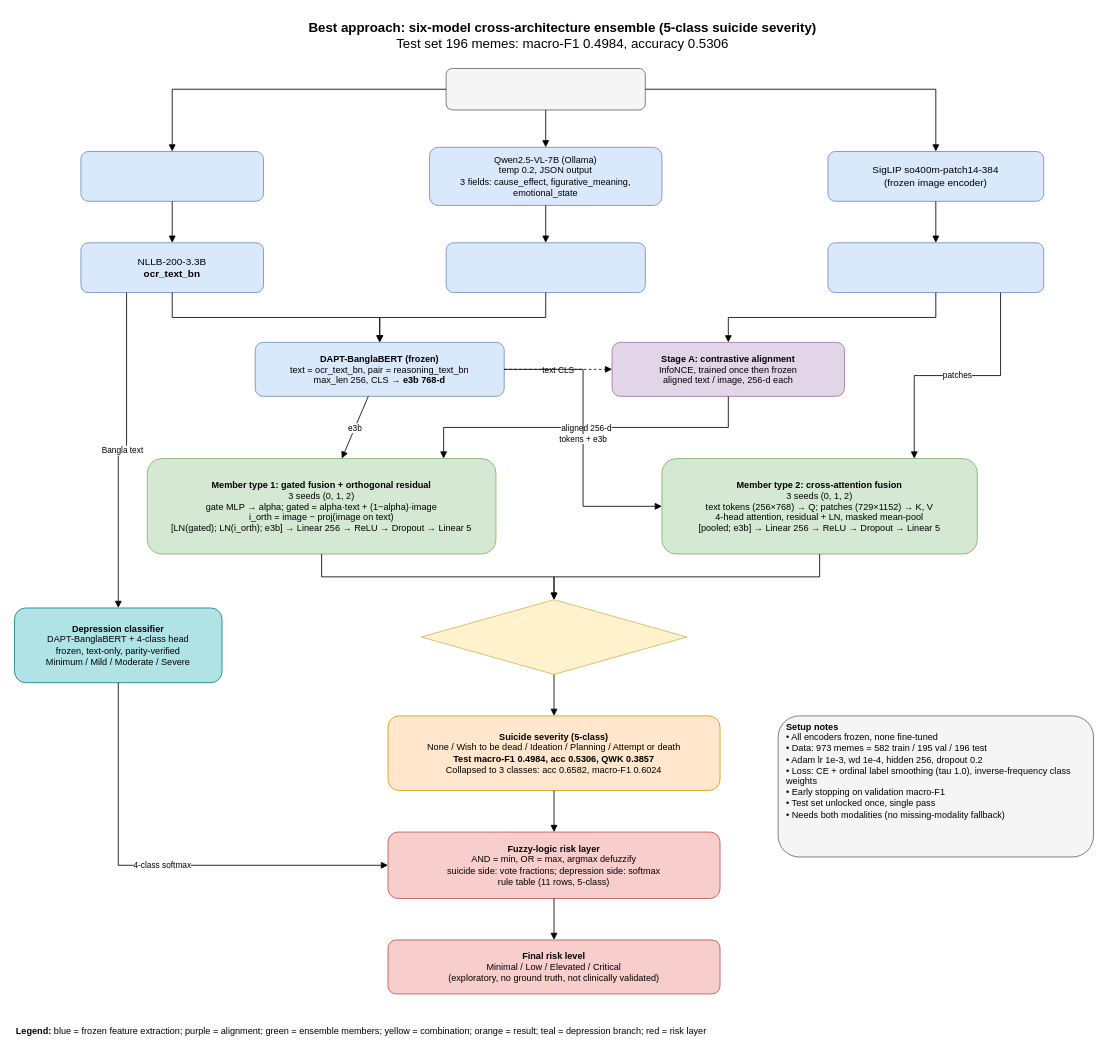
This 1108x1057 diagram has some shape labels left out. The shapes that lost their labels are listed below. From the top down, each one's box as (x1, y1, x2, y2) in pixels, then its label:
(445, 68, 645, 110): Bangla meme image + embedded text
(80, 151, 264, 201): EasyOCR (English reader, GPU)
(445, 242, 645, 293): NLLB-200-3.3B reasoning_text_bn
(827, 242, 1044, 293): 1152-d pooled vector + 729 × 1152 patch tokens
(420, 599, 687, 674): Majority vote 6 models, hard 5-class argmax
